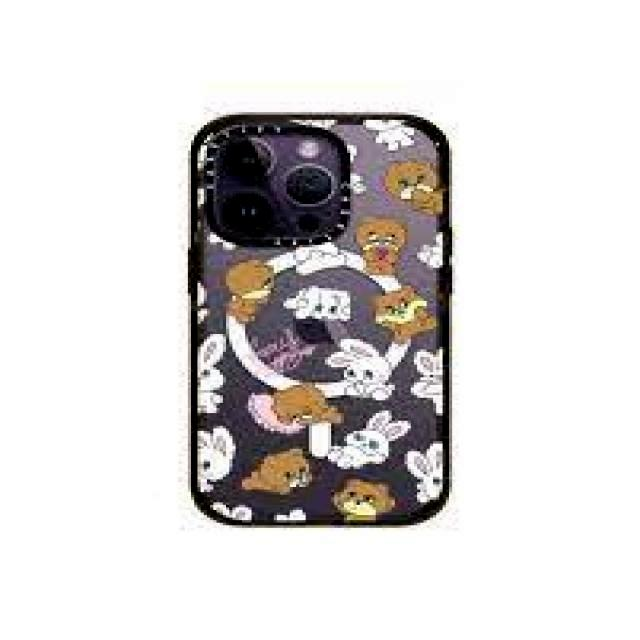lens_back: (281, 152, 334, 208), (219, 138, 277, 181), (222, 196, 274, 242)
phone: (184, 106, 458, 532)
